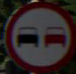No overtake: (7, 4, 69, 68)
